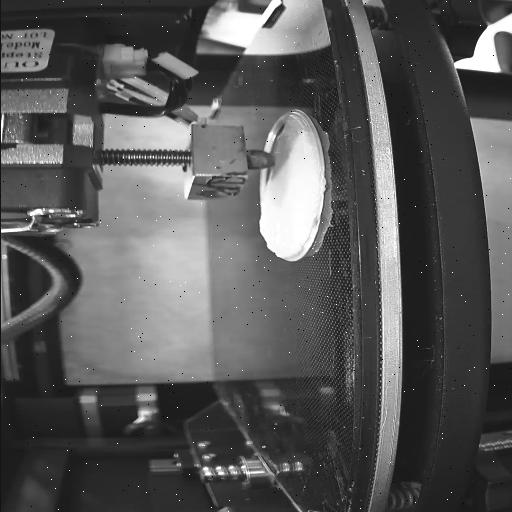over_extrusion: (252, 212, 300, 262)
